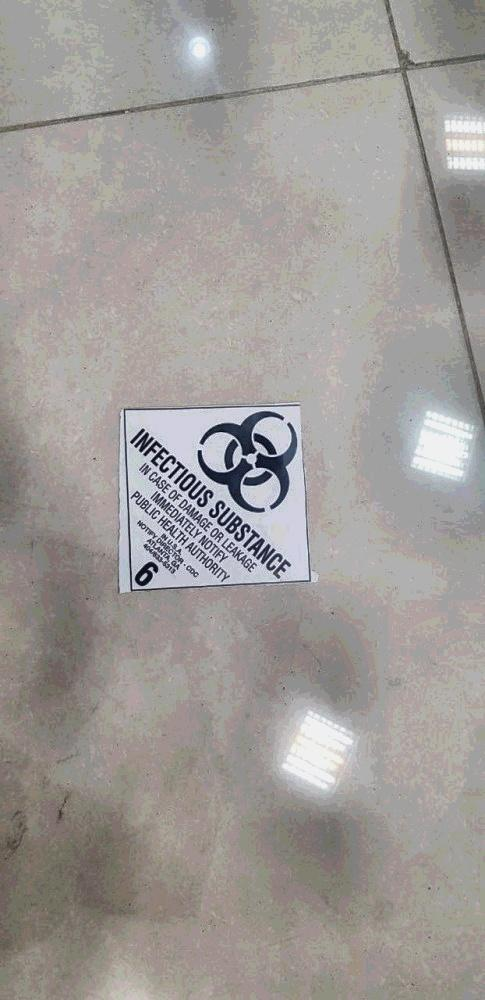infectious-substance: (114, 404, 322, 597)
